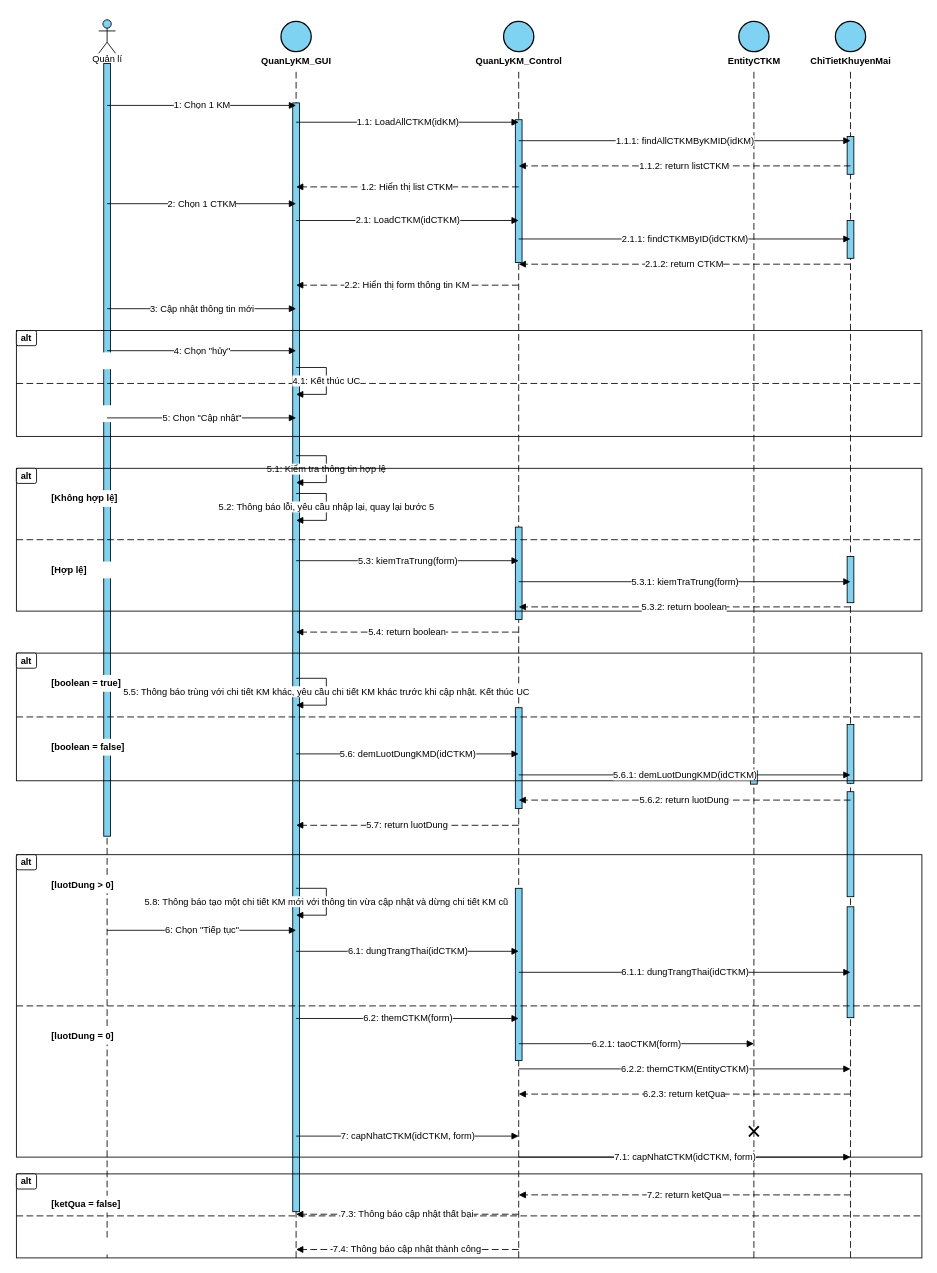
The diagram is 937 pixels wide and 1273 high, and some of its shapes have lost their labels. Each missing label, with the centre of its shape:
[Chọn cập nhật]: [117,413]
[Chọn hủy]: [117,360]
[ketQua = true]: [117,1245]
